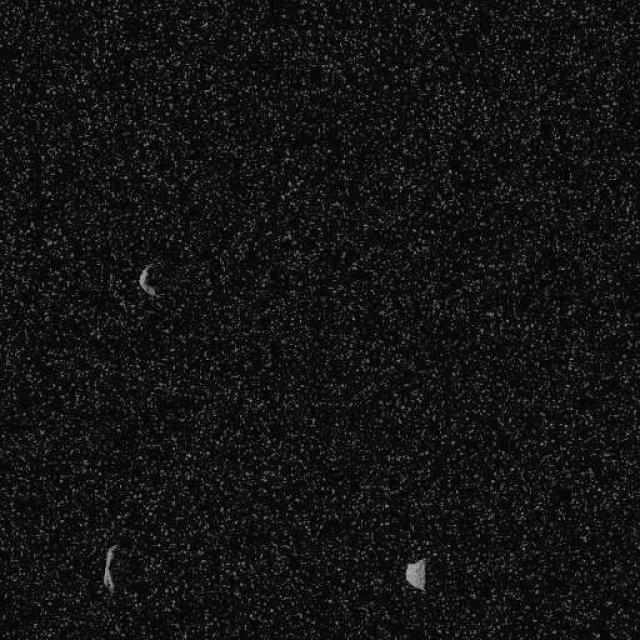D2: (403, 556, 428, 592), (101, 542, 118, 592), (136, 264, 160, 298)
